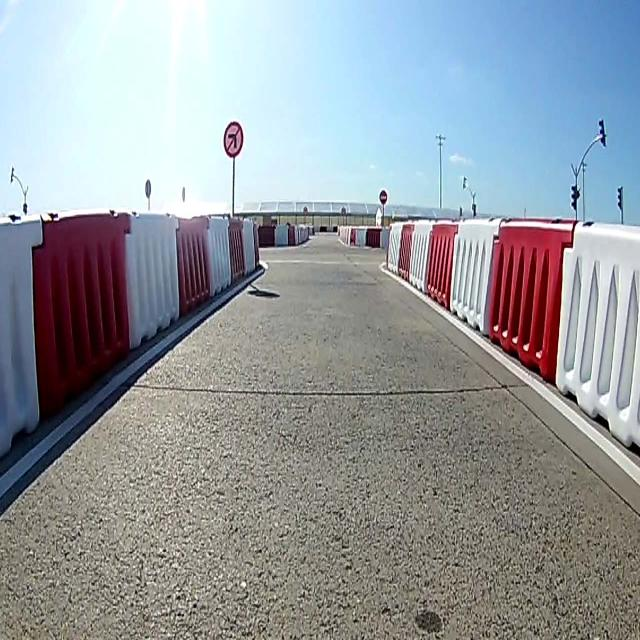girisyok: (379, 187, 388, 206)
soladonulmez: (222, 118, 244, 158)
